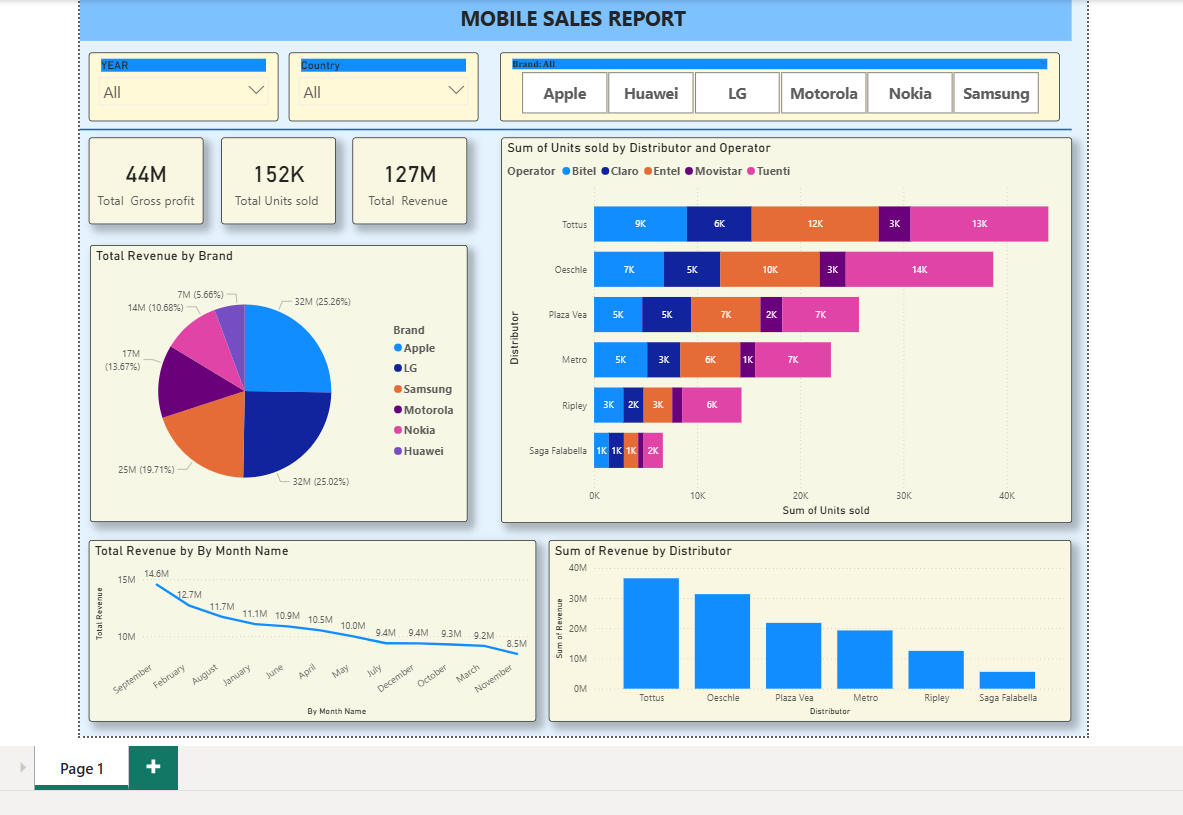

This screenshot's page, from the dashboard's own definition file:
{"tool":"powerbi","page":{"name":"Page 1","canvas":[1300,950],"ordinal":0},"visuals":[{"type":"textbox","box":[0,0,1280.2,52.5],"z":0},{"type":"slicer","fields":{"Values":["datemaster.YEAR"]},"box":[11.5,67.3,244.6,88.6],"z":1000},{"type":"slicer","fields":{"Values":["Sheet1.Country"]},"box":[269.2,67.3,244.6,88.6],"z":2000},{"type":"slicer","fields":{"Values":["Sheet1.Brand"]},"box":[541.6,67.3,722.2,88.6],"z":3000},{"type":"shape","box":[0,155.9,1280.2,21.3],"z":4000},{"type":"card","fields":{"Values":["Sum(Sheet1.Revenue )"]},"box":[351.2,177.3,147.7,111.6],"z":5000},{"type":"card","fields":{"Values":["Sum(Sheet1.Gross profit)"]},"box":[11.5,177.3,147.7,111.6],"z":6000},{"type":"card","fields":{"Values":["Sum(Sheet1.Units sold )"]},"box":[182.2,177.3,147.7,111.6],"z":7000},{"type":"pieChart","title":"Total  Revenue  by Brand","fields":{"Y":["Sum(Sheet1.Revenue )"],"Category":["Sheet1.Brand"]},"box":[13.1,316.8,487.5,357.8],"z":8000},{"type":"lineChart","fields":{"Y":["Sum(Sheet1.Revenue )"],"Category":["datemaster.MONTH NAME"]},"box":[11.5,697.6,577.8,234.7],"z":9000},{"type":"barChart","fields":{"Category":["Sheet1.Distributor"],"Y":["Sum(Sheet1.Units sold )"],"Series":["Sheet1.Operator"]},"box":[543.3,177.3,737,497.3],"z":10000},{"type":"clusteredColumnChart","fields":{"Y":["Sum(Sheet1.Revenue )"],"Category":["Sheet1.Distributor"]},"box":[605.7,697.6,674.6,234.7],"z":11000}]}

Visuals, with their boxes on the page's 1300x950 design canvas (x1, y1, x2, y2). These are canvas units, not pixel positions in the 1183x815 screenshot, which may show the page scaled, cropped or inside an application window:
textbox: Rect(0, 0, 1280, 52)
slicer - datemaster.YEAR: Rect(12, 67, 256, 156)
slicer - Sheet1.Country: Rect(269, 67, 514, 156)
slicer - Sheet1.Brand: Rect(542, 67, 1264, 156)
shape: Rect(0, 156, 1280, 177)
card - Sum(Sheet1.Revenue ): Rect(351, 177, 499, 289)
card - Sum(Sheet1.Gross profit): Rect(12, 177, 159, 289)
card - Sum(Sheet1.Units sold ): Rect(182, 177, 330, 289)
"Total  Revenue  by Brand" pieChart: Rect(13, 317, 501, 675)
lineChart - Sum(Sheet1.Revenue ) x datemaster.MONTH NAME: Rect(12, 698, 589, 932)
barChart - Sheet1.Distributor x Sum(Sheet1.Units sold ): Rect(543, 177, 1280, 675)
clusteredColumnChart - Sum(Sheet1.Revenue ) x Sheet1.Distributor: Rect(606, 698, 1280, 932)
